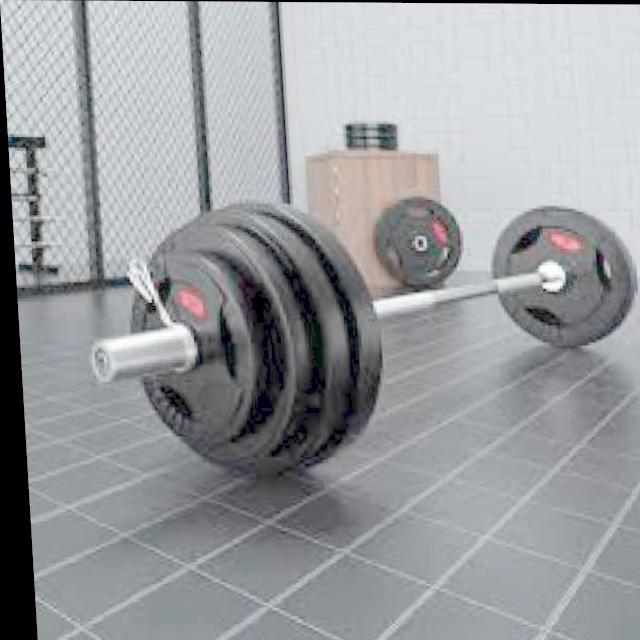barbell: (70, 199, 291, 480)
